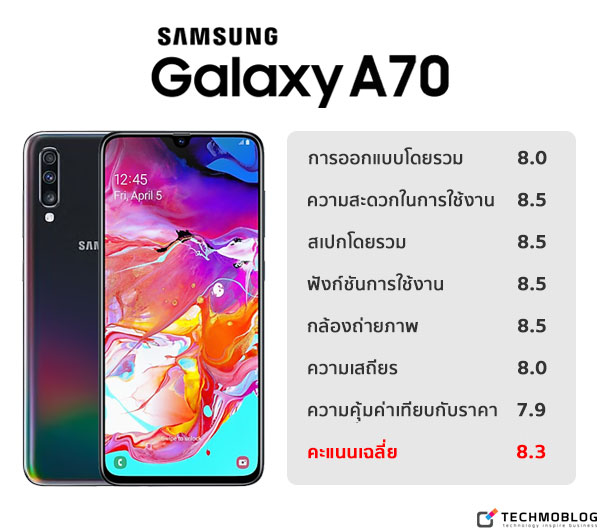phone: (93, 125, 269, 491), (17, 128, 118, 489)
